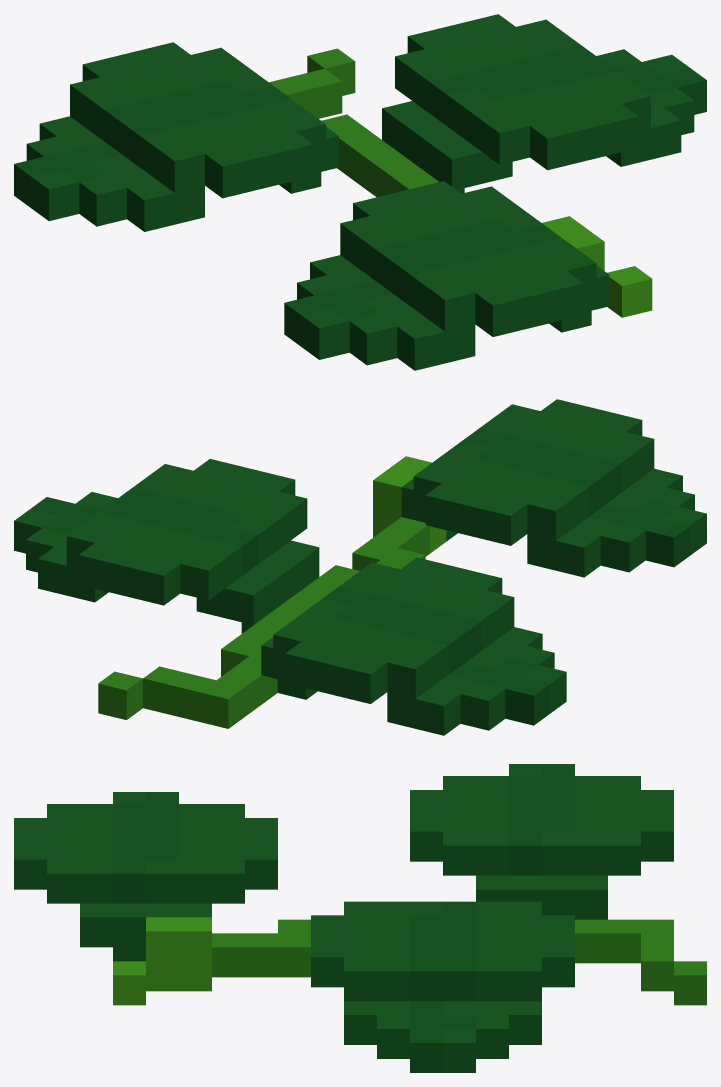
Rendered from 0_2 jerim.obj.
The picture shows the model from 3 angles, top to bottom: view 1: azimuth 30°, elevation 25°; view 2: azimuth 150°, elevation 25°; view 3: azimuth 270°, elevation 25°; orthographic projection. The views are drawn at different scales.
Size of the model in its own units: 2 by 0.3 by 2.1.
1 material, 1 textured.
